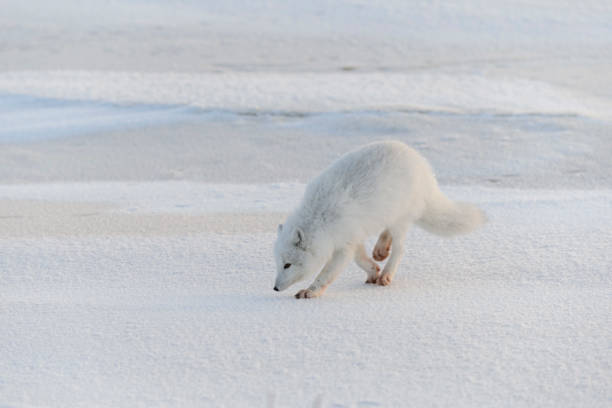arcticfox: (271, 235, 322, 300)
